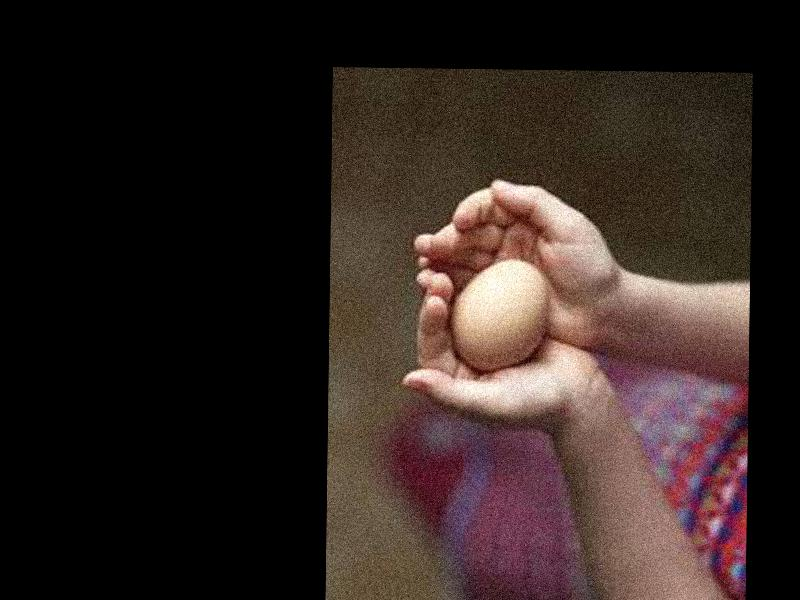Eggs: (449, 260, 548, 373)
